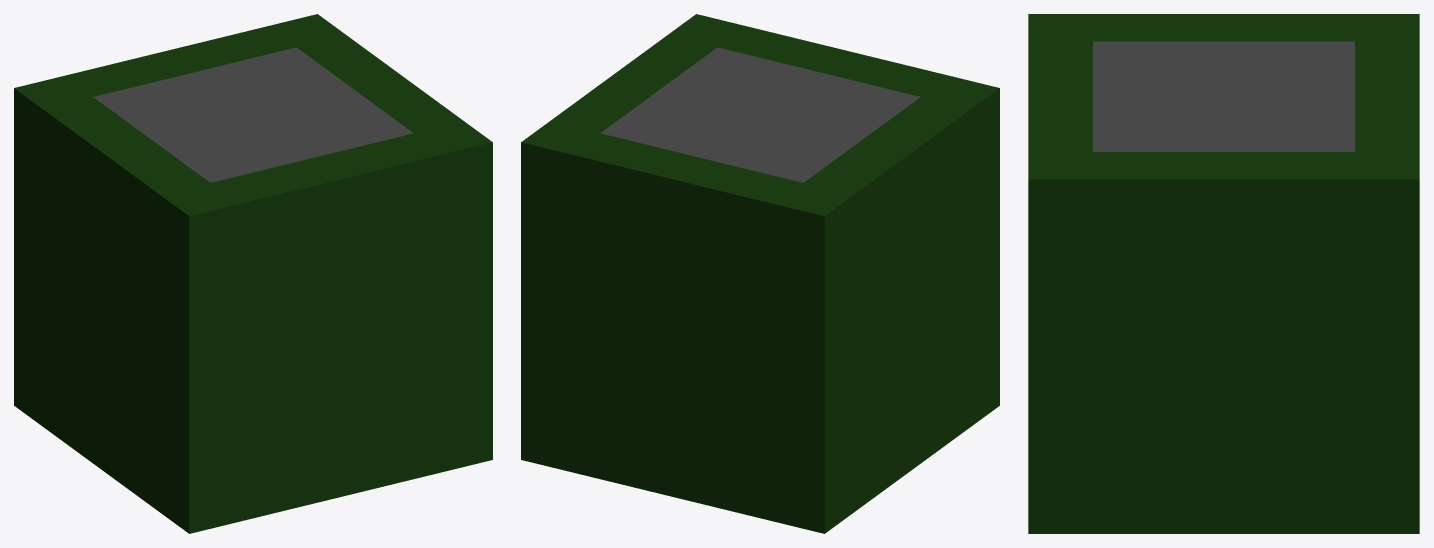
The model's file is Import2.fbx.
3 views of the same model, side by side, from view 1: azimuth 30°, elevation 25°; view 2: azimuth 150°, elevation 25°; view 3: azimuth 270°, elevation 25° (orthographic). The views are drawn at different scales.
Visible parts, largest first — view 1: Cube.006; view 2: Cube.006; view 3: Cube.006.
Part boxes in pixels (box(x1,y1,x2,y2)): Cube.006: box(14, 14, 492, 533); Cube.006: box(521, 14, 999, 533); Cube.006: box(1028, 14, 1419, 533).
Bounding box in the file's own units: 100 × 100 × 100.
